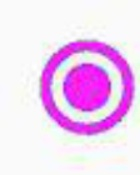RadioButton: (1, 1, 139, 174)
